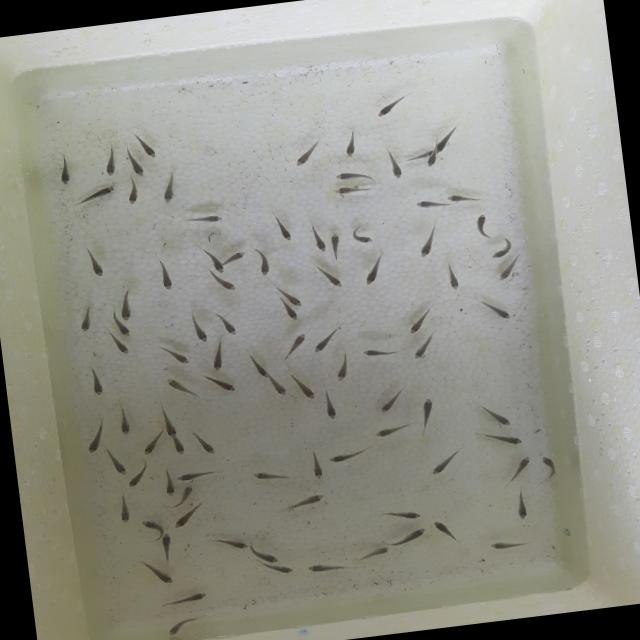fingerling: (156, 585, 216, 611), (480, 530, 539, 556), (67, 183, 118, 212), (158, 369, 201, 403), (274, 328, 312, 365), (277, 490, 331, 514), (372, 384, 410, 418), (48, 148, 80, 188), (150, 253, 180, 294), (427, 447, 468, 477), (290, 138, 326, 172), (176, 208, 228, 231), (187, 424, 222, 458), (532, 452, 564, 489), (357, 252, 388, 290), (412, 224, 444, 260), (246, 465, 296, 488), (310, 261, 348, 291), (476, 403, 516, 431), (478, 294, 514, 325), (481, 427, 525, 452), (356, 340, 406, 362), (388, 524, 430, 550), (502, 452, 536, 484), (160, 613, 200, 640), (374, 93, 412, 121), (154, 167, 182, 205), (80, 419, 110, 454), (308, 326, 344, 355), (154, 340, 191, 368), (324, 444, 371, 466), (78, 247, 109, 280), (266, 207, 294, 243), (206, 532, 248, 556), (85, 362, 111, 400), (202, 370, 240, 396), (302, 556, 349, 577), (509, 485, 534, 524), (110, 402, 136, 439), (466, 210, 496, 242), (414, 394, 439, 432), (204, 338, 230, 374), (378, 504, 424, 524), (185, 311, 212, 345), (330, 348, 355, 384), (402, 308, 434, 336), (380, 149, 406, 183), (328, 167, 374, 186), (372, 418, 410, 441), (337, 130, 366, 160), (244, 346, 270, 379), (104, 446, 130, 478), (445, 188, 486, 208), (440, 259, 464, 293), (74, 300, 98, 334), (212, 309, 240, 338), (431, 516, 458, 546), (406, 335, 436, 362), (175, 465, 222, 482), (116, 286, 138, 322), (432, 126, 460, 154), (346, 220, 374, 248), (148, 564, 180, 588), (356, 542, 394, 562), (115, 489, 135, 526), (331, 182, 374, 199), (138, 428, 164, 456), (252, 246, 274, 279), (208, 273, 240, 295), (169, 506, 197, 530), (122, 175, 142, 208), (310, 224, 330, 256), (325, 230, 345, 262), (412, 196, 447, 214), (265, 560, 300, 578), (487, 240, 515, 262), (100, 145, 118, 179), (251, 546, 281, 566), (491, 262, 518, 284), (138, 516, 165, 538), (159, 530, 176, 564), (308, 447, 324, 483), (294, 378, 318, 402), (158, 467, 177, 497), (160, 410, 180, 438), (320, 394, 340, 422), (266, 376, 290, 398), (177, 482, 200, 504), (108, 335, 132, 356), (224, 248, 248, 266), (125, 470, 146, 489), (112, 320, 134, 338), (140, 142, 160, 160), (128, 159, 146, 178), (170, 438, 188, 456), (287, 293, 305, 310), (420, 156, 440, 168), (212, 257, 225, 275), (282, 308, 300, 320)
